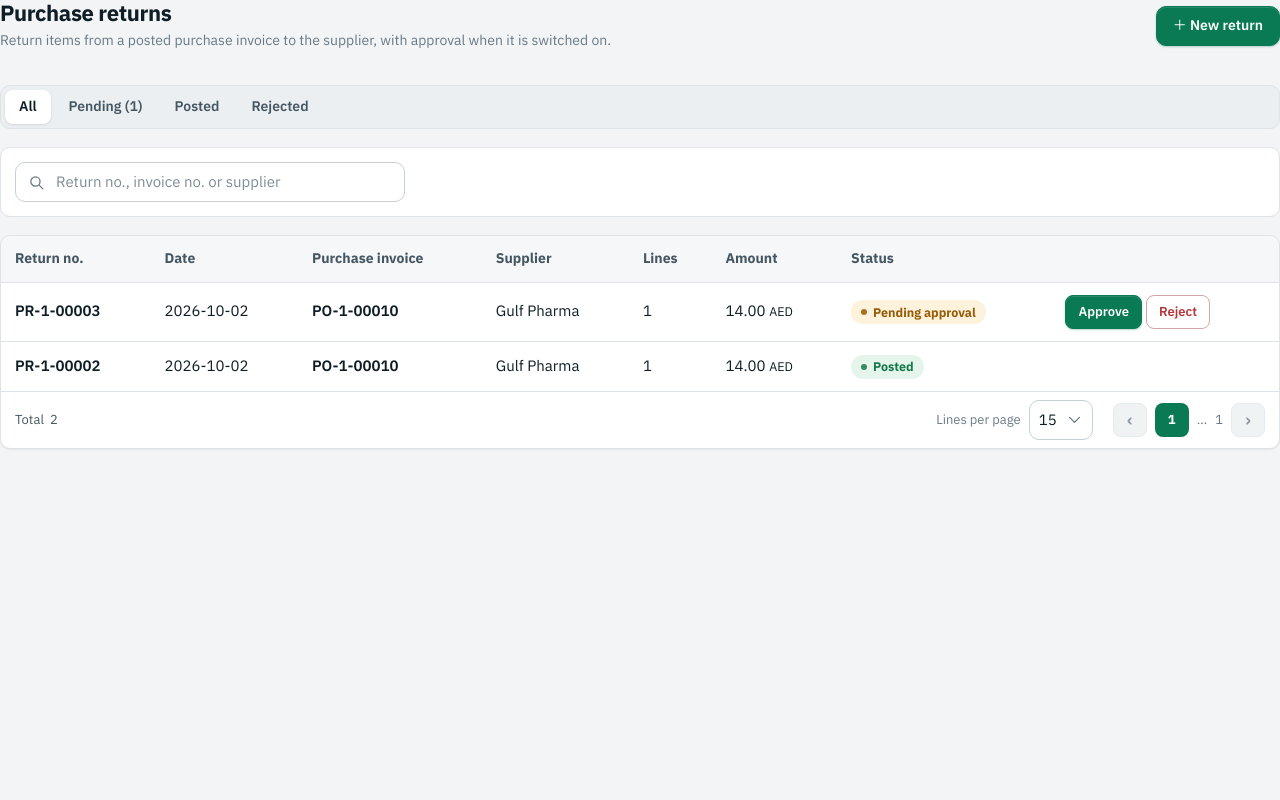
Test: PurchaseReturnsPage › approves a pending return with a note
Expected: the text "Pending approval" is shown, left=851, top=300, right=986, bottom=324
Click the button "Approve" at [1104, 312], box left=1066, top=295, right=1142, bottom=329
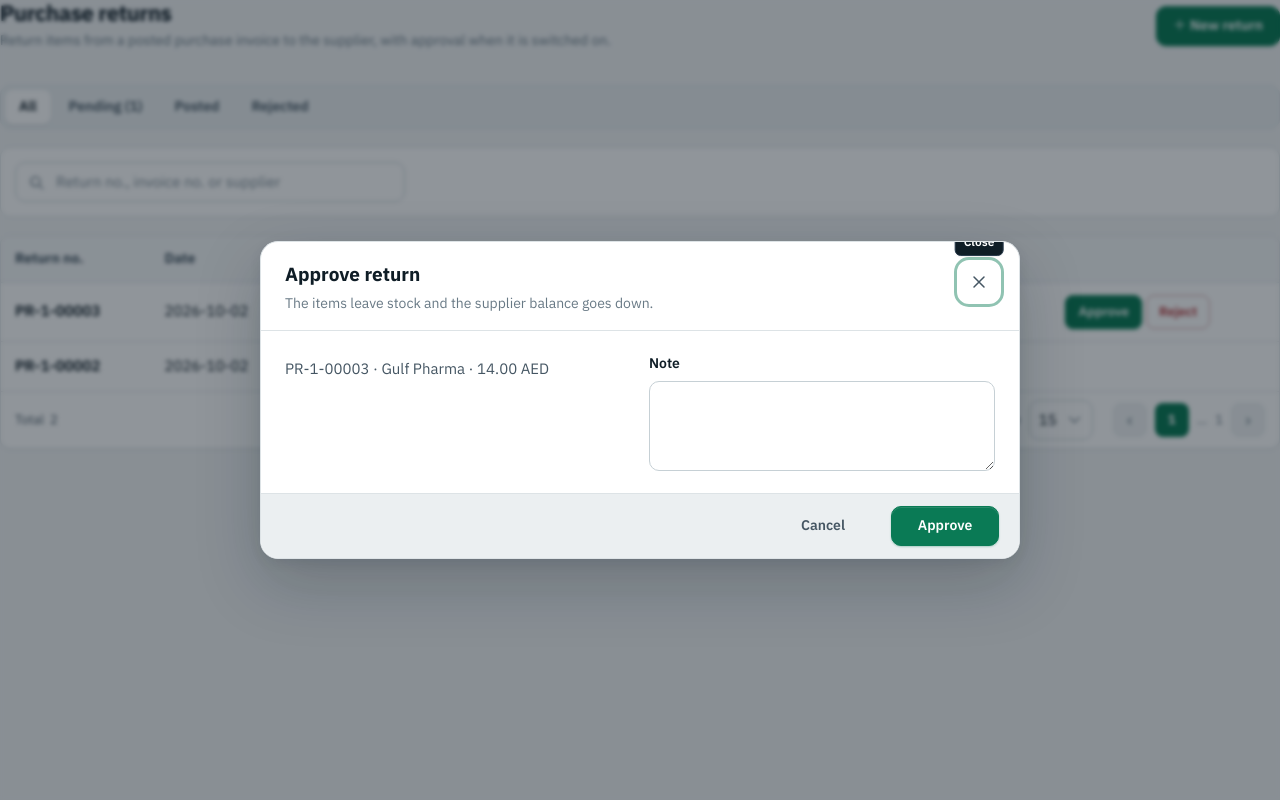
Type "Supplier agreed" into the text box at [822, 426], box left=649, top=381, right=995, bottom=470
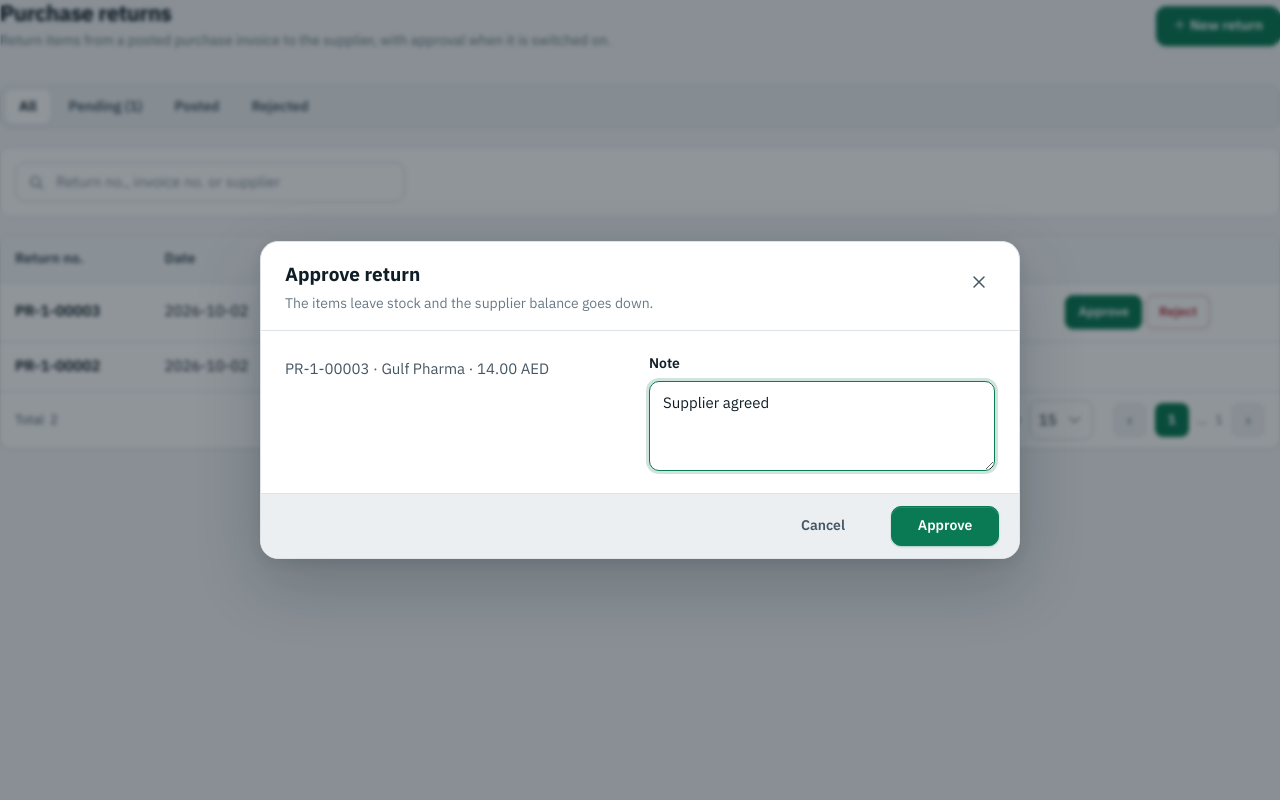
Click the button "Approve" at [945, 526], box left=891, top=506, right=999, bottom=546
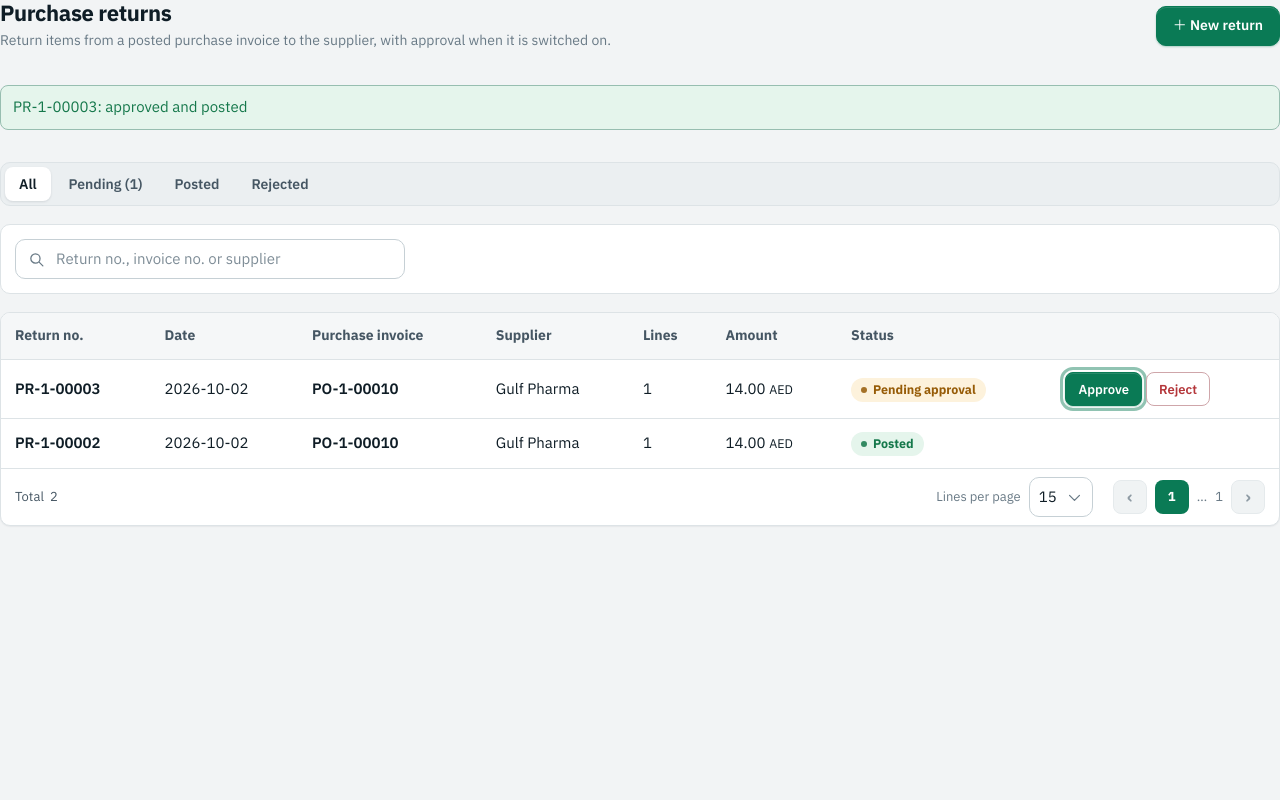
Now the text "PR-1-00003: approved and posted" is shown, box left=0, top=85, right=1279, bottom=130
